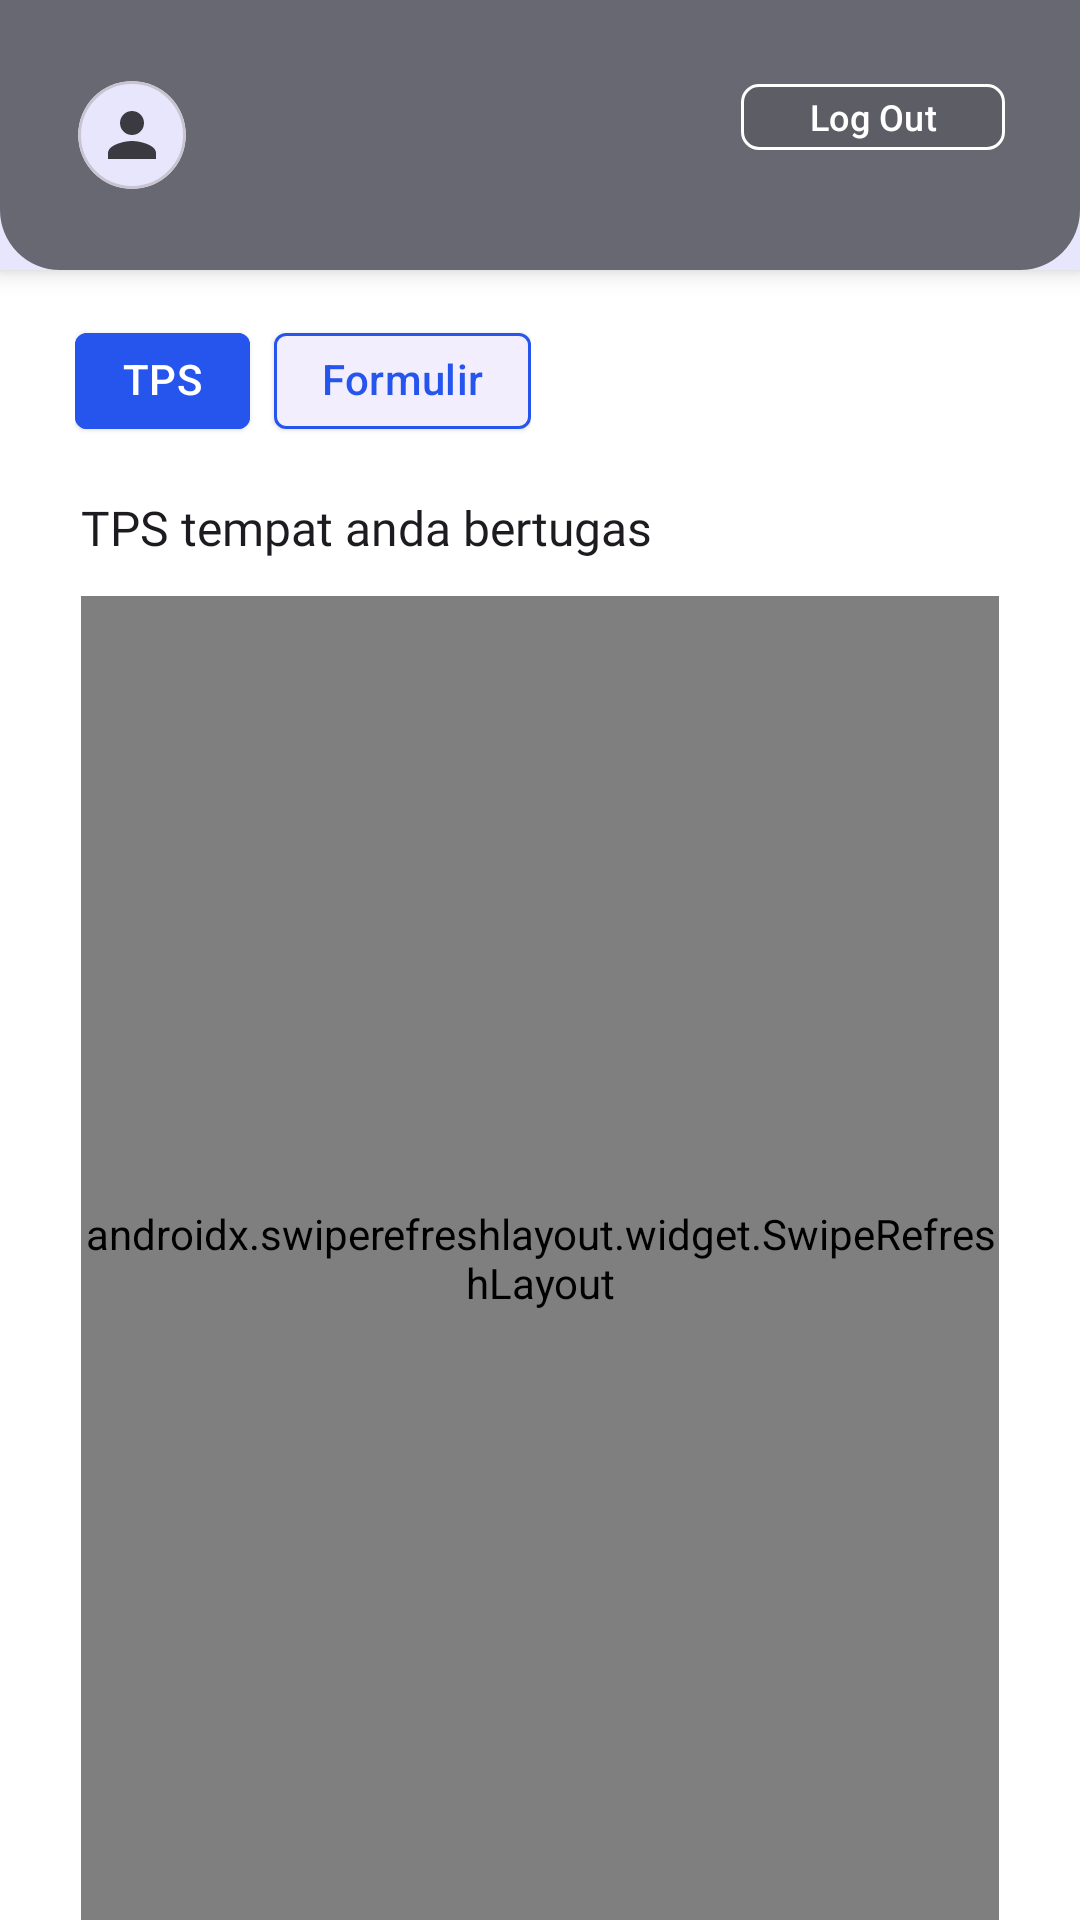

Where icons sit on this 1080w x 1920h app screen, as (x1, y1, x2, y2):
person: (108, 111, 156, 159)
